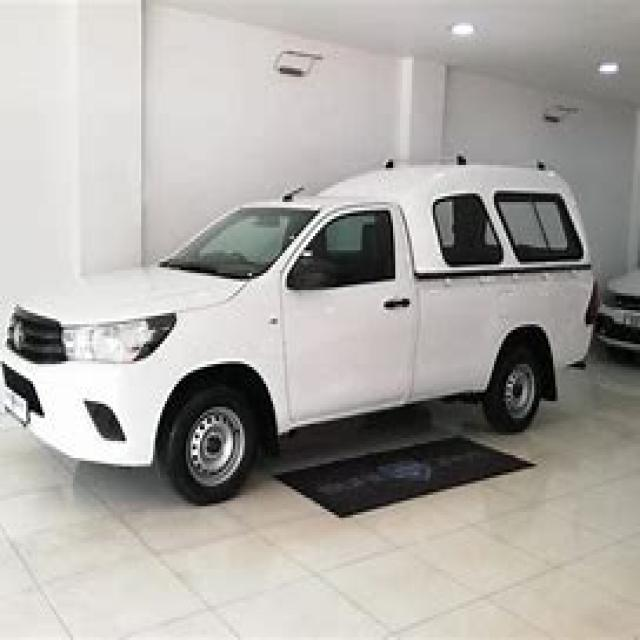light_vehicle: (2, 151, 612, 506)
